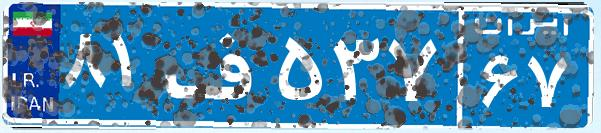1: (110, 28, 158, 105)
3: (330, 28, 385, 110)
5: (273, 28, 330, 110)
6: (475, 38, 525, 113)
7: (385, 28, 445, 110), (525, 38, 570, 115)
8: (57, 26, 110, 107)
ف: (158, 15, 273, 115)
